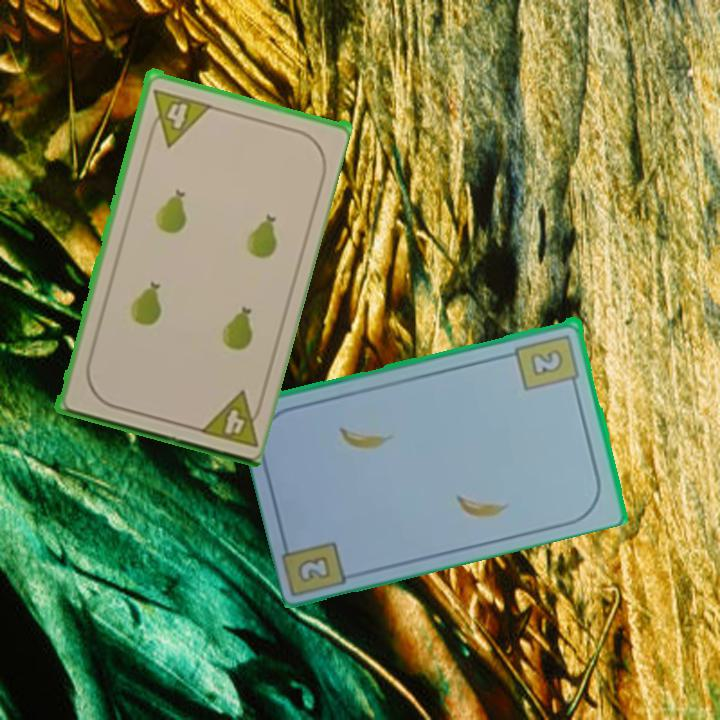2b: (512, 330, 583, 393), (294, 551, 334, 586)
4p: (193, 386, 267, 450), (143, 85, 213, 148)
